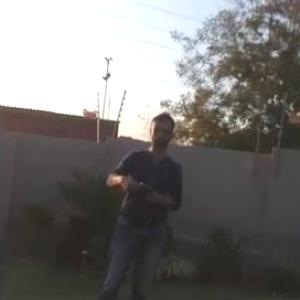follow: (95, 105, 186, 299)
